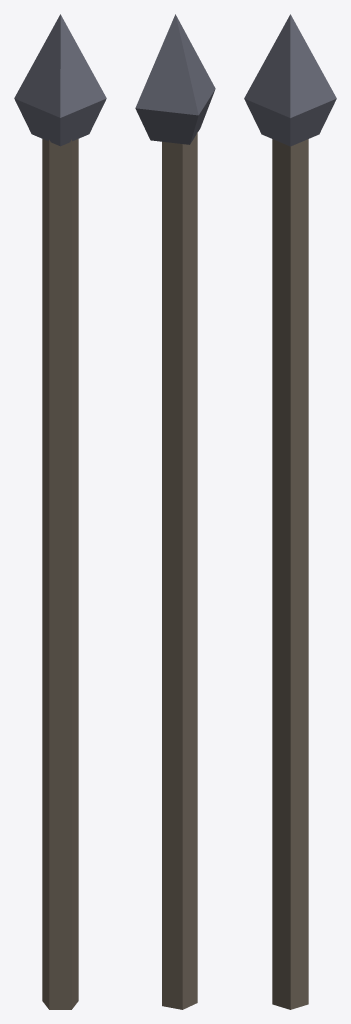
File: _Ballista_shell.fbx
The picture shows the model from 3 angles, left to right: view 1: azimuth 90°, elevation 25°; view 2: azimuth 210°, elevation 25°; view 3: azimuth 270°, elevation 25°; orthographic projection.
Parts seen in each view (by area): view 1: Ballista_shell; view 2: Ballista_shell; view 3: Ballista_shell.
Boxes of the visible parts, x1,y1,x2,y2 form: Ballista_shell: (14,14,106,1009); Ballista_shell: (135,14,215,1009); Ballista_shell: (244,14,336,1009).
Size of the model in its own units: 20.8 by 245 by 20.8.
